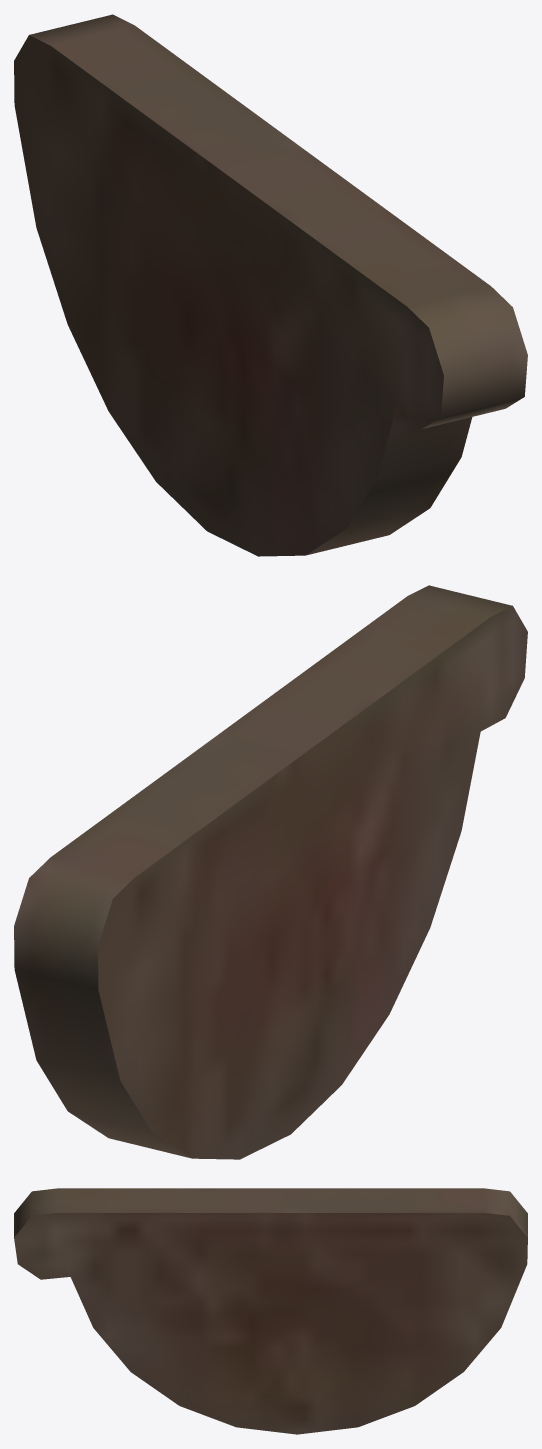
Rendered from gutter_cornice_cap.glb.
The picture shows the model from 3 angles, top to bottom: view 1: azimuth 30°, elevation 25°; view 2: azimuth 150°, elevation 25°; view 3: azimuth 270°, elevation 25°; orthographic projection. The views are drawn at different scales.
Parts seen in each view (by area): view 1: gutter_cornice_cap; view 2: gutter_cornice_cap; view 3: gutter_cornice_cap.
Boxes of the visible parts, x1,y1,x2,y2 form: gutter_cornice_cap: (14, 14, 527, 556); gutter_cornice_cap: (14, 585, 527, 1159); gutter_cornice_cap: (14, 1188, 527, 1434).
Size of the model in its own units: 0.0195 by 0.0822 by 0.1727.
1 material, 1 textured.
